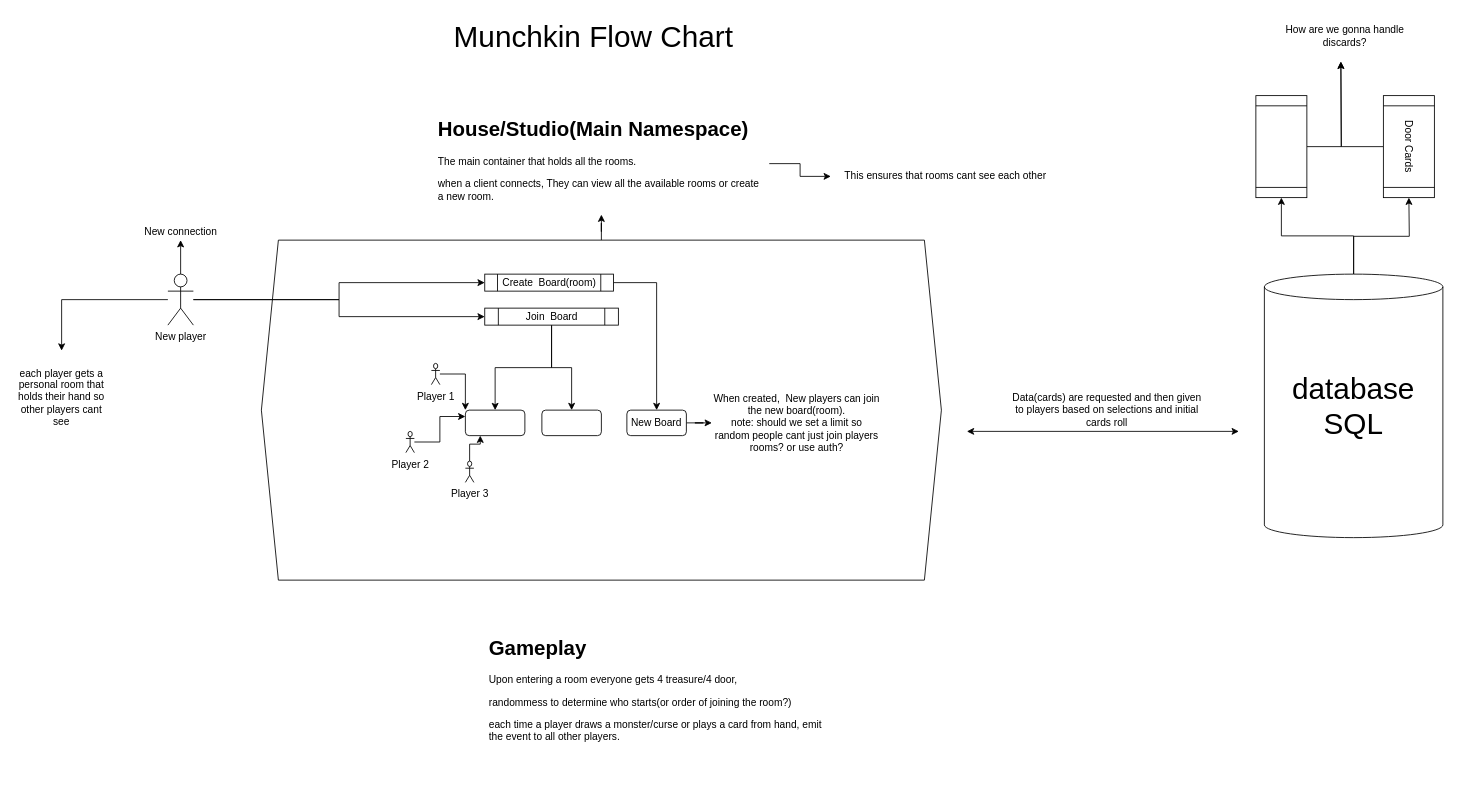
Image size: 1458x807. Some labels were removed from this diagram. Here are the shapes that lost their labels. From the top down, the centre of each, then its label:
At point 1281,146: "Treasure cards".
At point 495,422: "Board 1".
At point 571,422: "Board 2".
